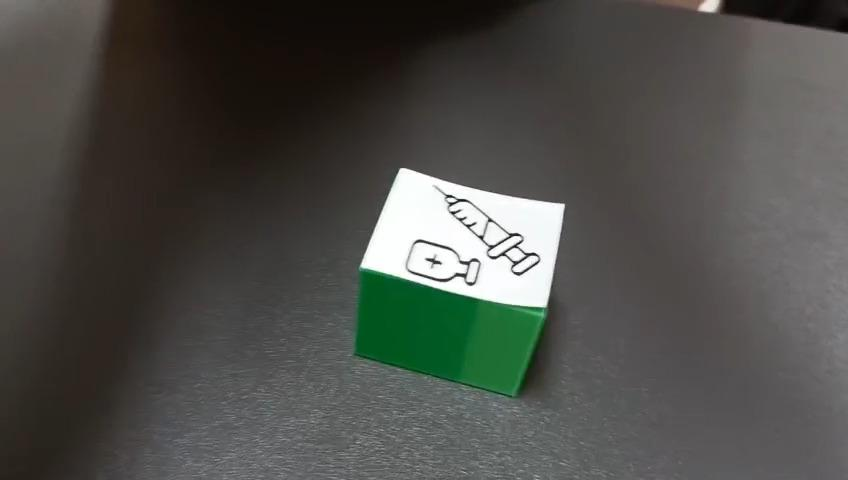antiseptic cream: (352, 166, 566, 397)
